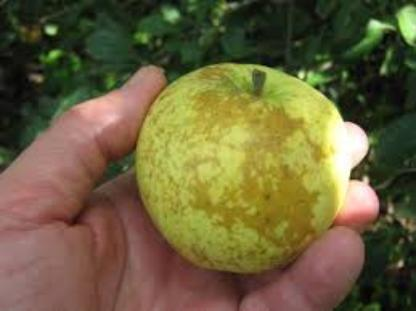defect: (148, 91, 326, 269)
